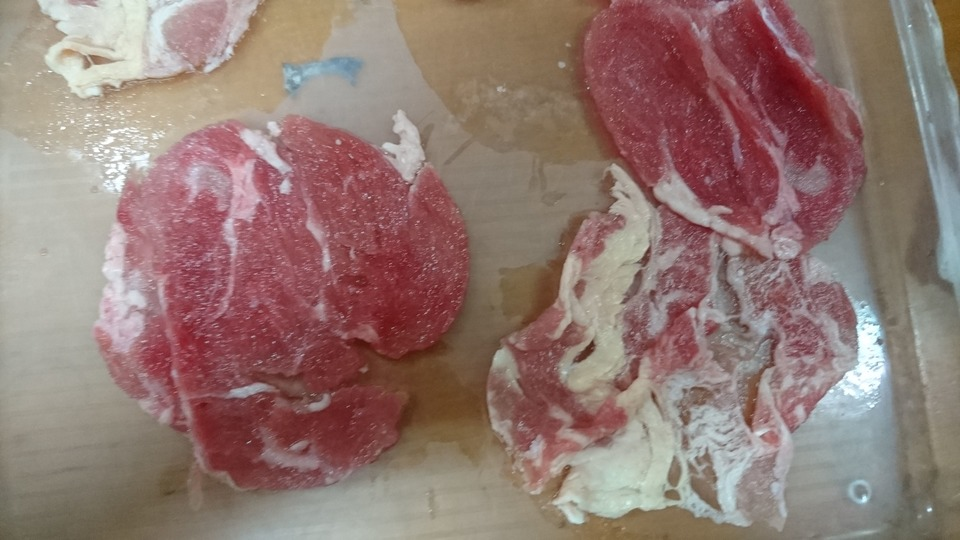restructured meat: (104, 122, 463, 479), (521, 190, 848, 540), (560, 19, 873, 215), (38, 2, 275, 96)
